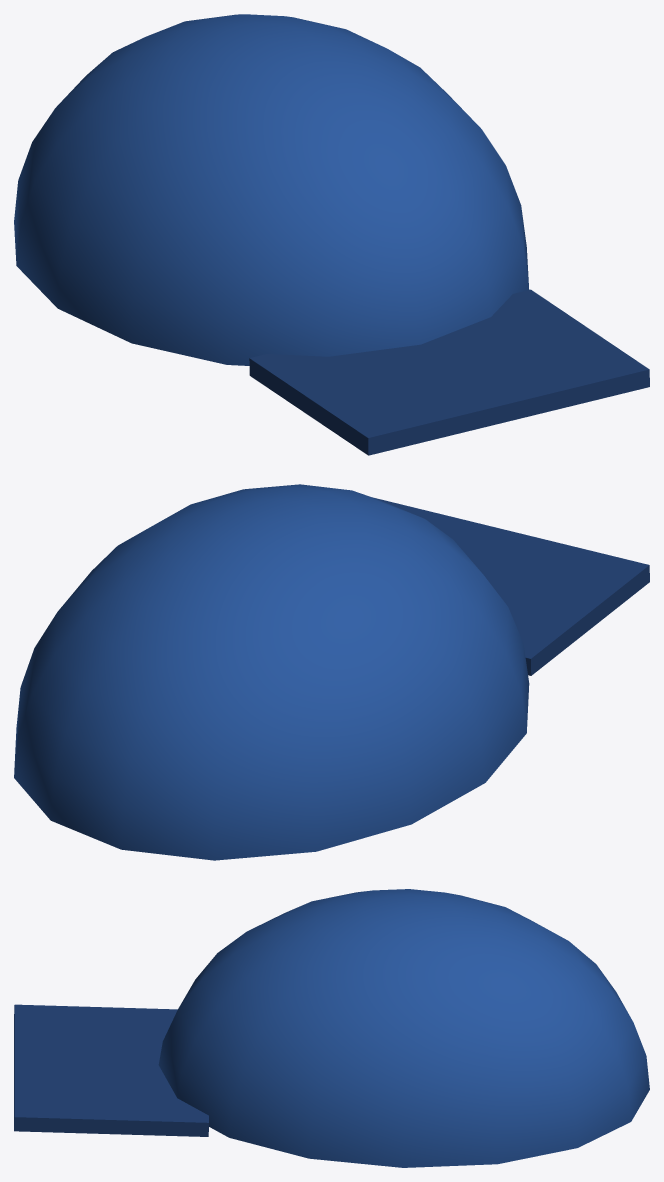
File: cap_m.glb
The picture shows the model from 3 angles, top to bottom: view 1: azimuth 30°, elevation 25°; view 2: azimuth 150°, elevation 25°; view 3: azimuth 270°, elevation 25°; orthographic projection. The views are drawn at different scales.
Parts seen in each view (by area): view 1: cap_m; view 2: cap_m; view 3: cap_m.
Part boxes in pixels (x1=…): cap_m: x1=14, y1=14, x2=649, y2=455; cap_m: x1=14, y1=484, x2=649, y2=860; cap_m: x1=14, y1=889, x2=649, y2=1167.
Size of the model in its own units: 0.2066 by 0.1021 by 0.3247.
